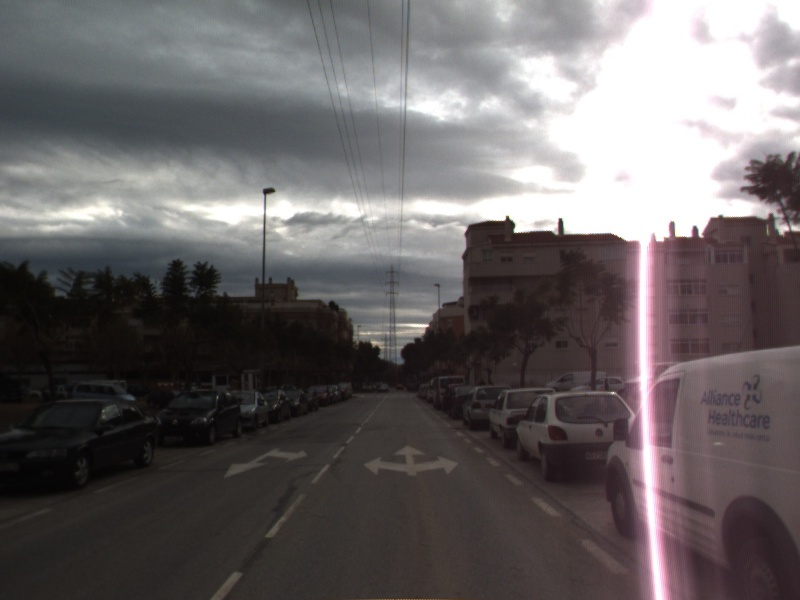STRAIGHT_LEFT_RIGHT: (361, 443, 461, 478)
